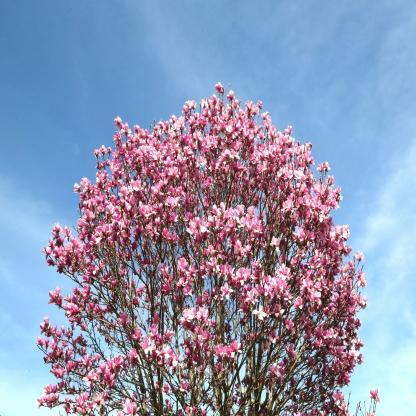Mokuren: (36, 82, 381, 416)
